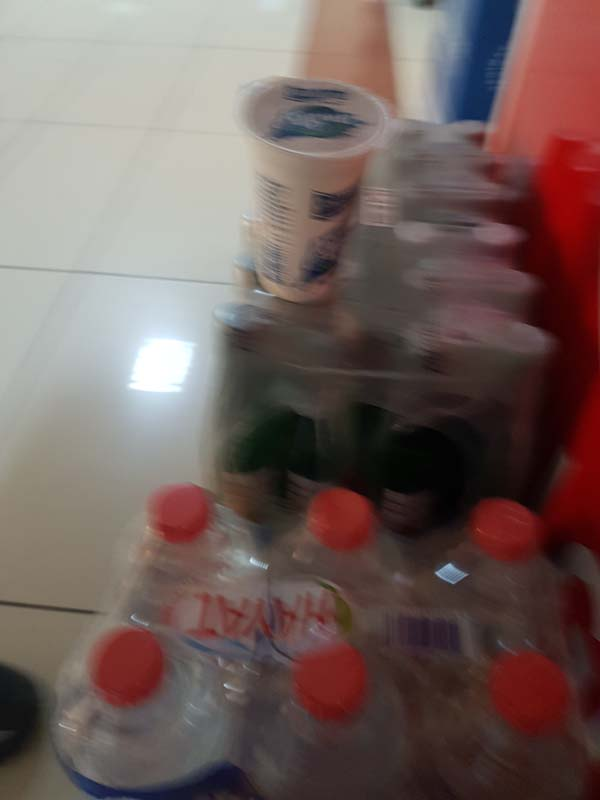camlicaayran: (228, 68, 399, 314)
